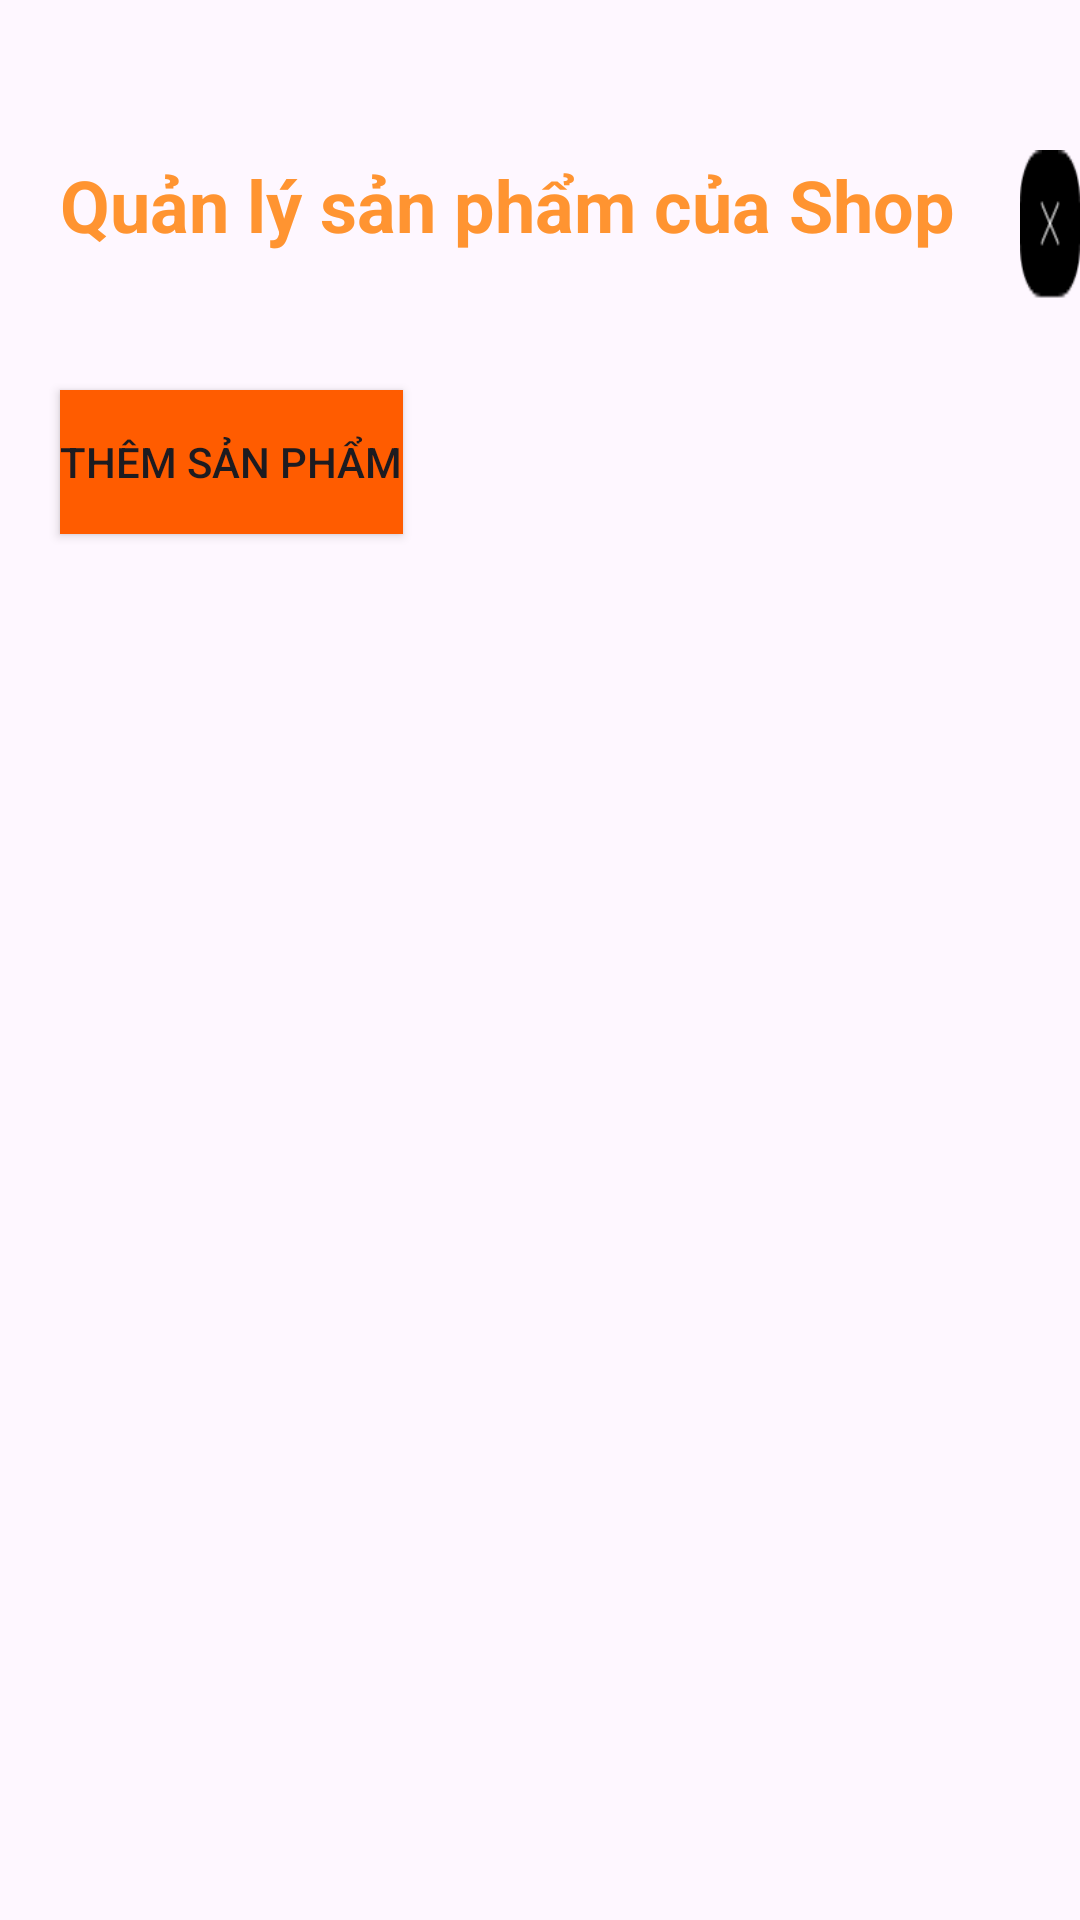

Named icons in this screenshot (1080 × 1920) and their centers, point (x, y):
close: point (1050, 224)
